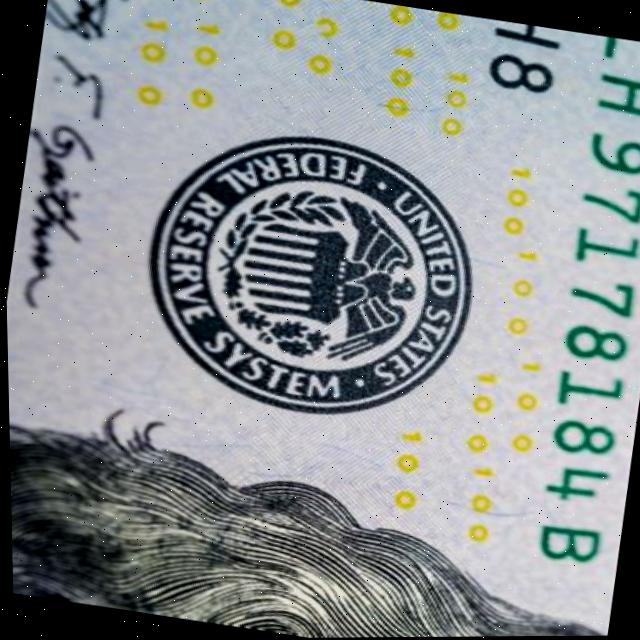banknote: (498, 354, 548, 459), (124, 14, 176, 111), (451, 365, 504, 457), (176, 22, 229, 113), (378, 426, 427, 514), (495, 246, 539, 342), (450, 463, 498, 546), (492, 164, 537, 242), (376, 46, 422, 122), (433, 71, 475, 141)
